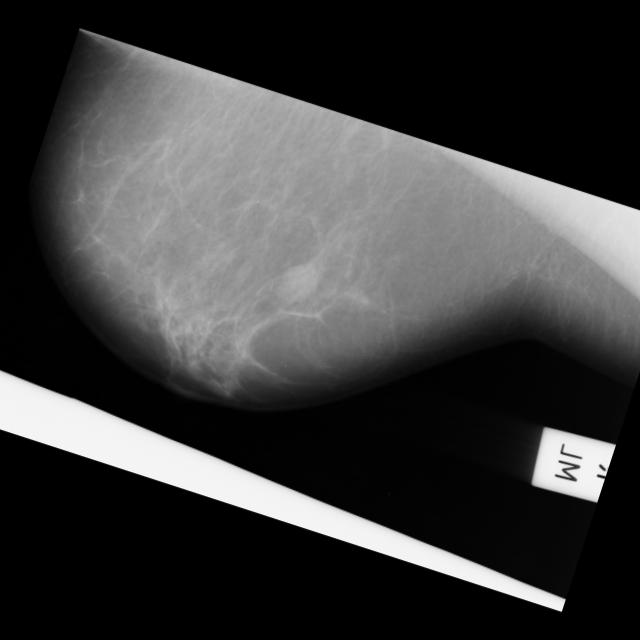CIRC: (280, 45, 640, 371)
